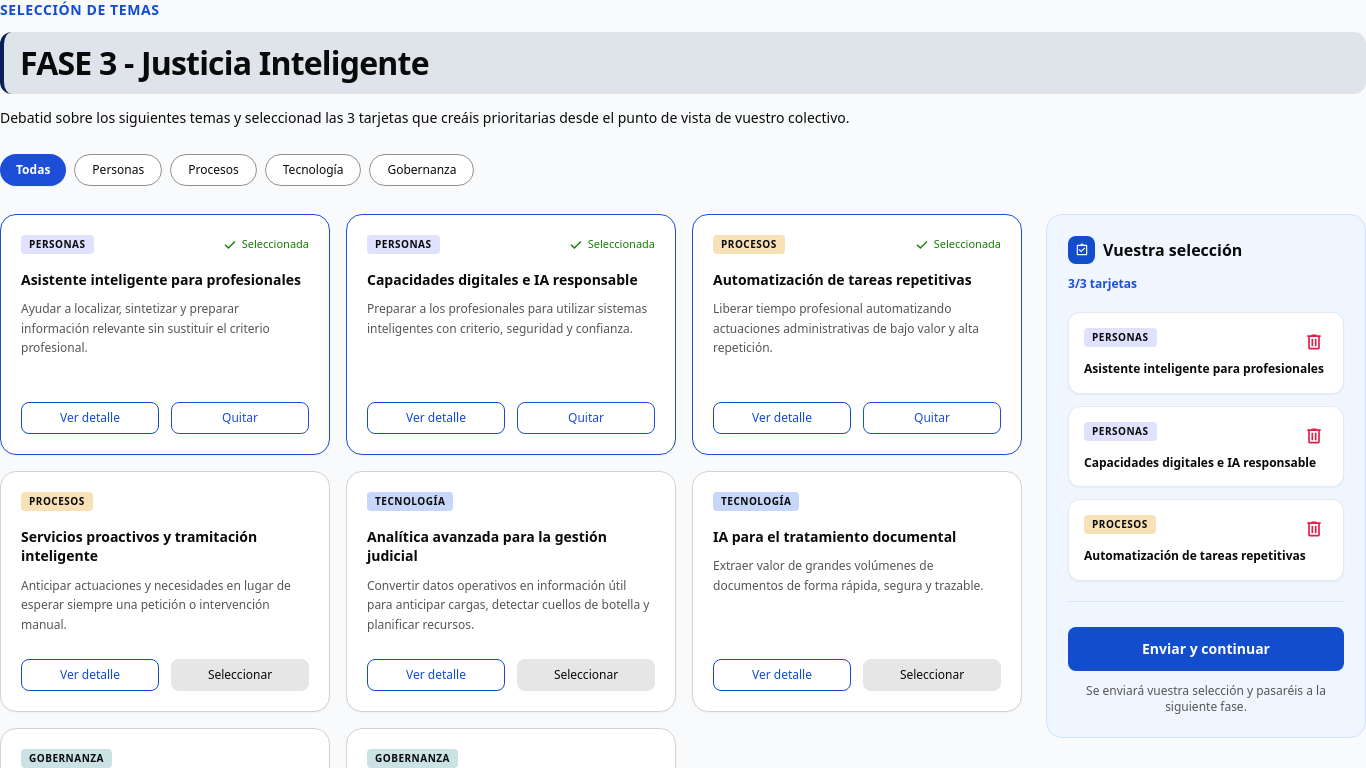
Test: componentes principales › muestra la confirmación final al enviar la última fase
This screenshot has width=1366, height=768.
Click the button "Enviar y continuar". click: (1206, 648)
box: [1068,626,1344,670]
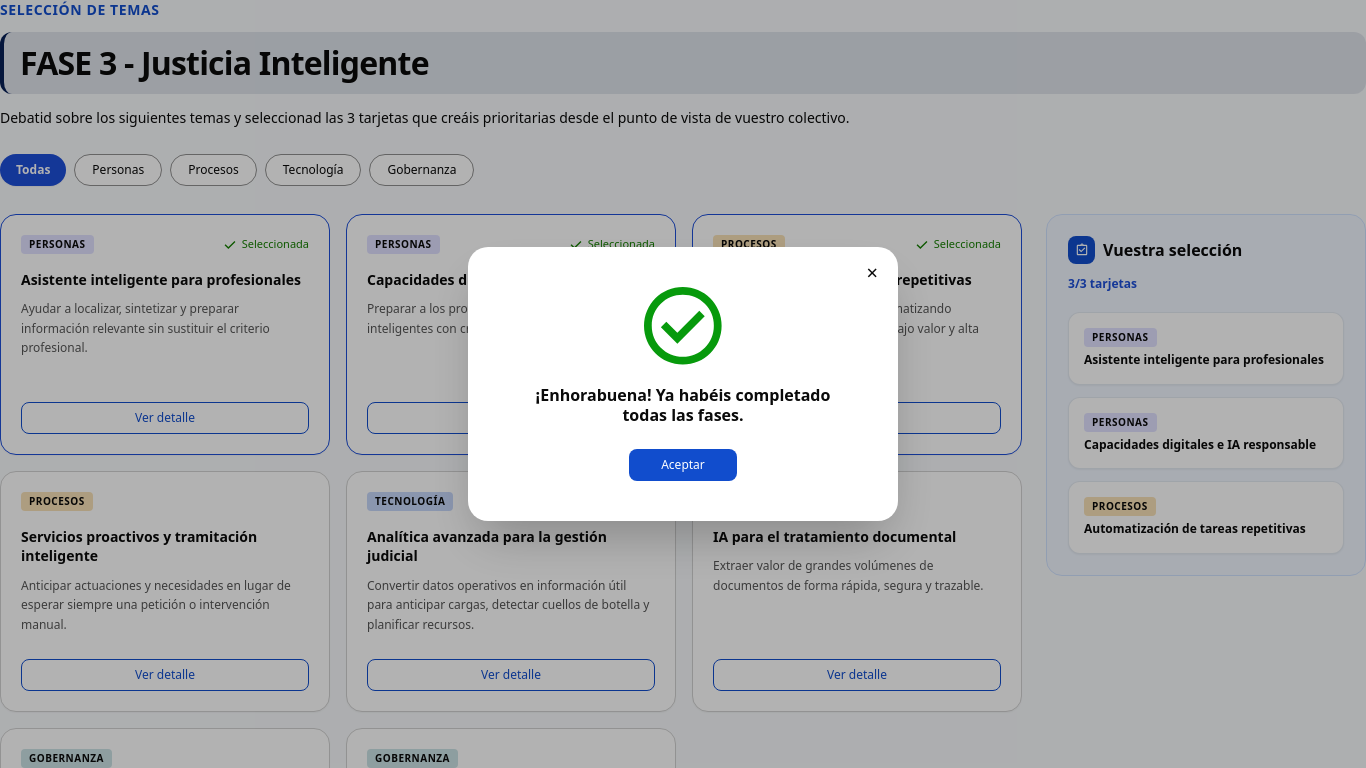
Now the dialog "¡Enhorabuena! Ya habéis completado todas las fases." is shown, box [468,247,898,521]
Now the button "Aceptar" is shown, box [629,449,737,481]
